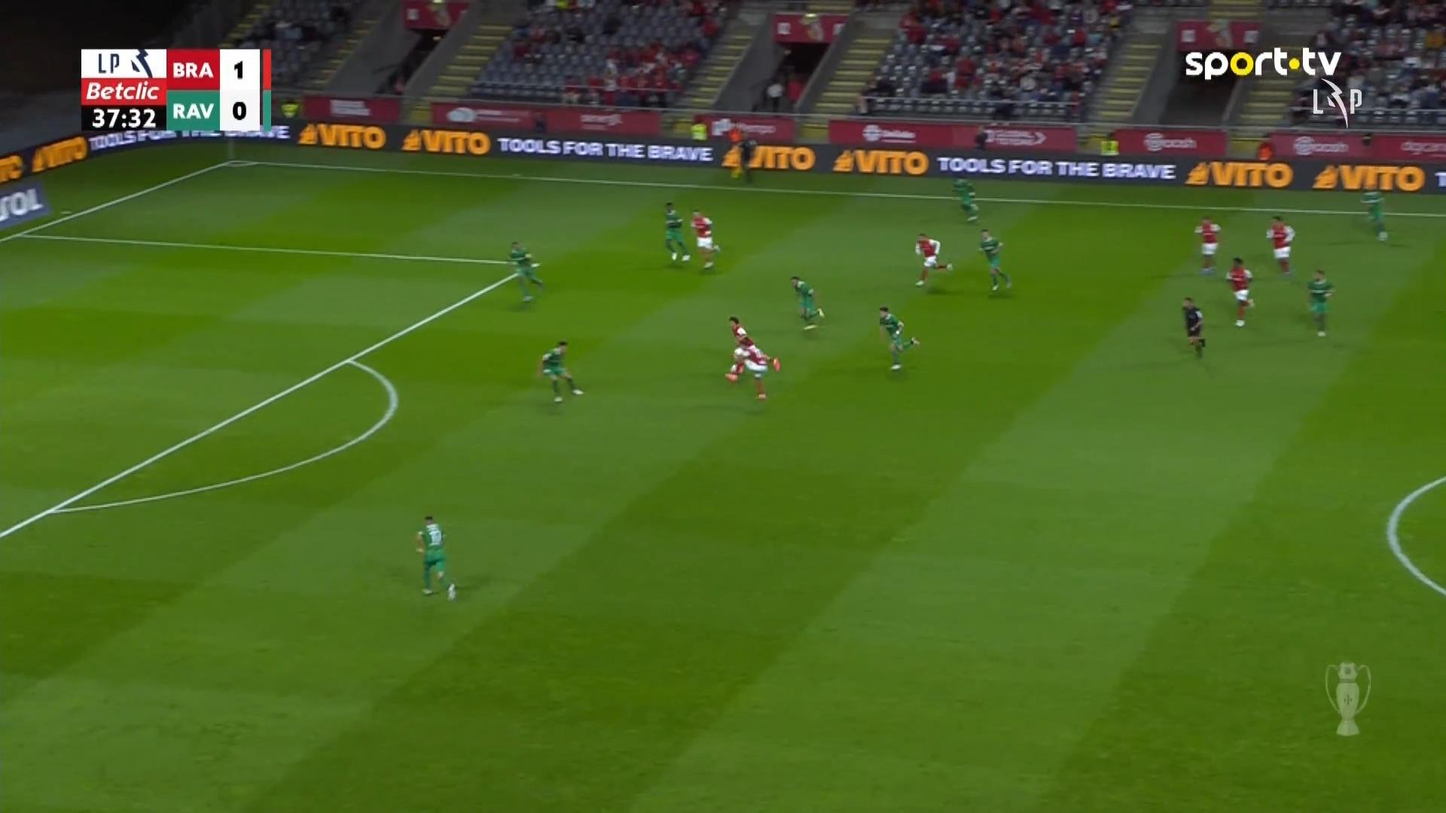player: (414, 513, 456, 601), (725, 315, 780, 381), (539, 340, 584, 403), (877, 305, 920, 370), (725, 339, 766, 400), (506, 240, 544, 302), (913, 232, 953, 287), (1225, 256, 1255, 327), (978, 227, 1011, 291), (789, 275, 824, 330), (1307, 267, 1334, 336), (1265, 214, 1295, 276), (690, 209, 720, 269), (662, 200, 691, 262), (1359, 186, 1388, 241), (1194, 215, 1221, 274), (953, 176, 980, 223)
referee: (1180, 296, 1205, 358), (736, 135, 757, 184)
